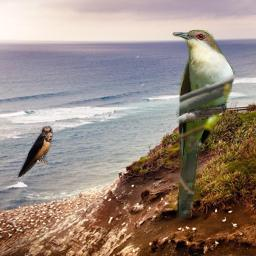Cuckoo: (172, 29, 236, 218)
Swallow: (17, 126, 53, 179)
